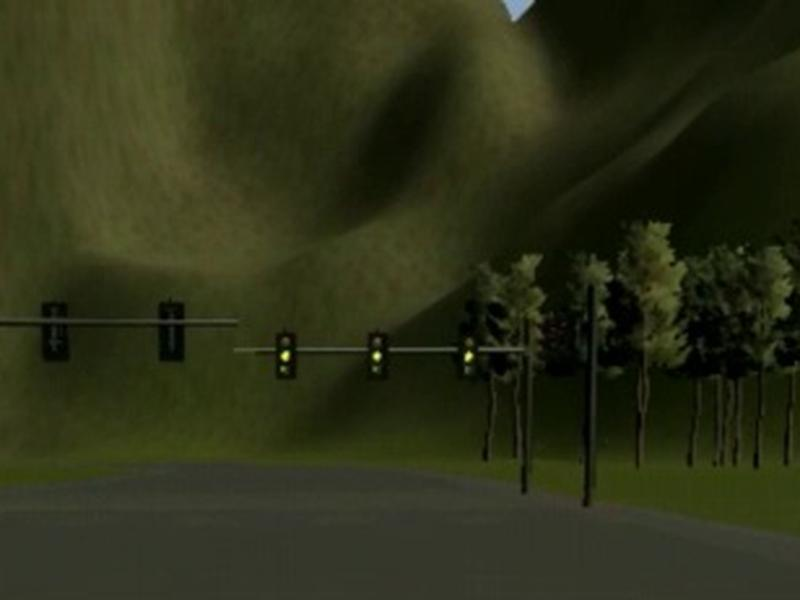Yellow: (367, 329, 389, 381), (274, 331, 297, 378), (459, 331, 479, 383)
